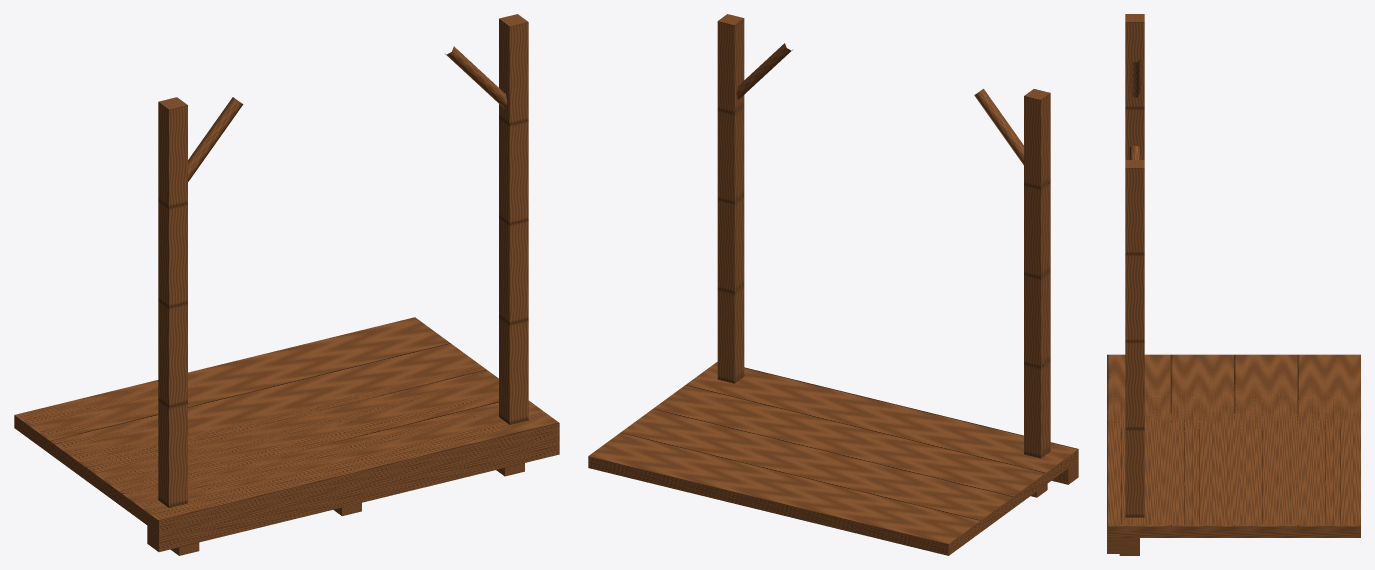
File: wild-west-frontier-town-boardwalk-section-19f2c3f4__30129.glb
3 views of the same model, side by side, from view 1: azimuth 30°, elevation 25°; view 2: azimuth 150°, elevation 25°; view 3: azimuth 270°, elevation 25° (orthographic). The views are drawn at different scales.
Visible parts, largest first — view 1: boardwalk-section; view 2: boardwalk-section; view 3: boardwalk-section.
Boxes of the visible parts, x1=… form: boardwalk-section: x1=14, y1=14, x2=559, y2=555; boardwalk-section: x1=588, y1=14, x2=1078, y2=555; boardwalk-section: x1=1107, y1=14, x2=1360, y2=555.
Size of the model in its own units: 3.2 by 3.4 by 2.
1 material, 1 textured.
